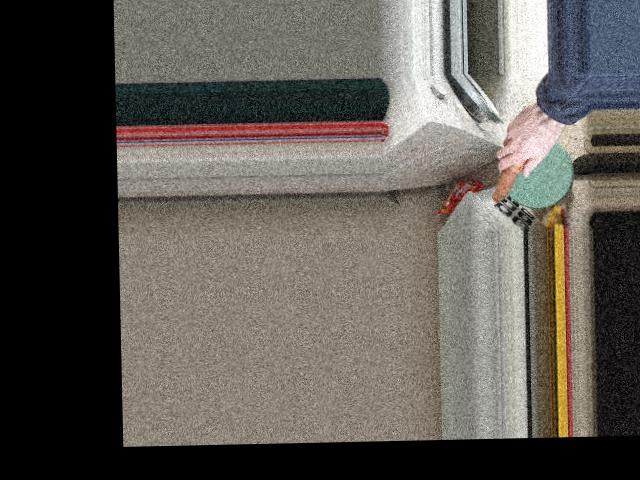sweet_potato: (490, 125, 546, 199)
